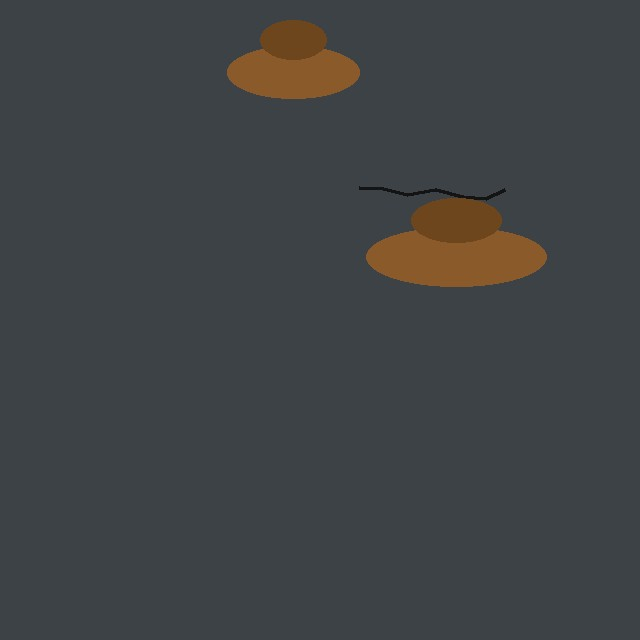animal: (366, 198, 546, 286), (227, 20, 359, 98)
crack: (359, 147, 498, 227)
